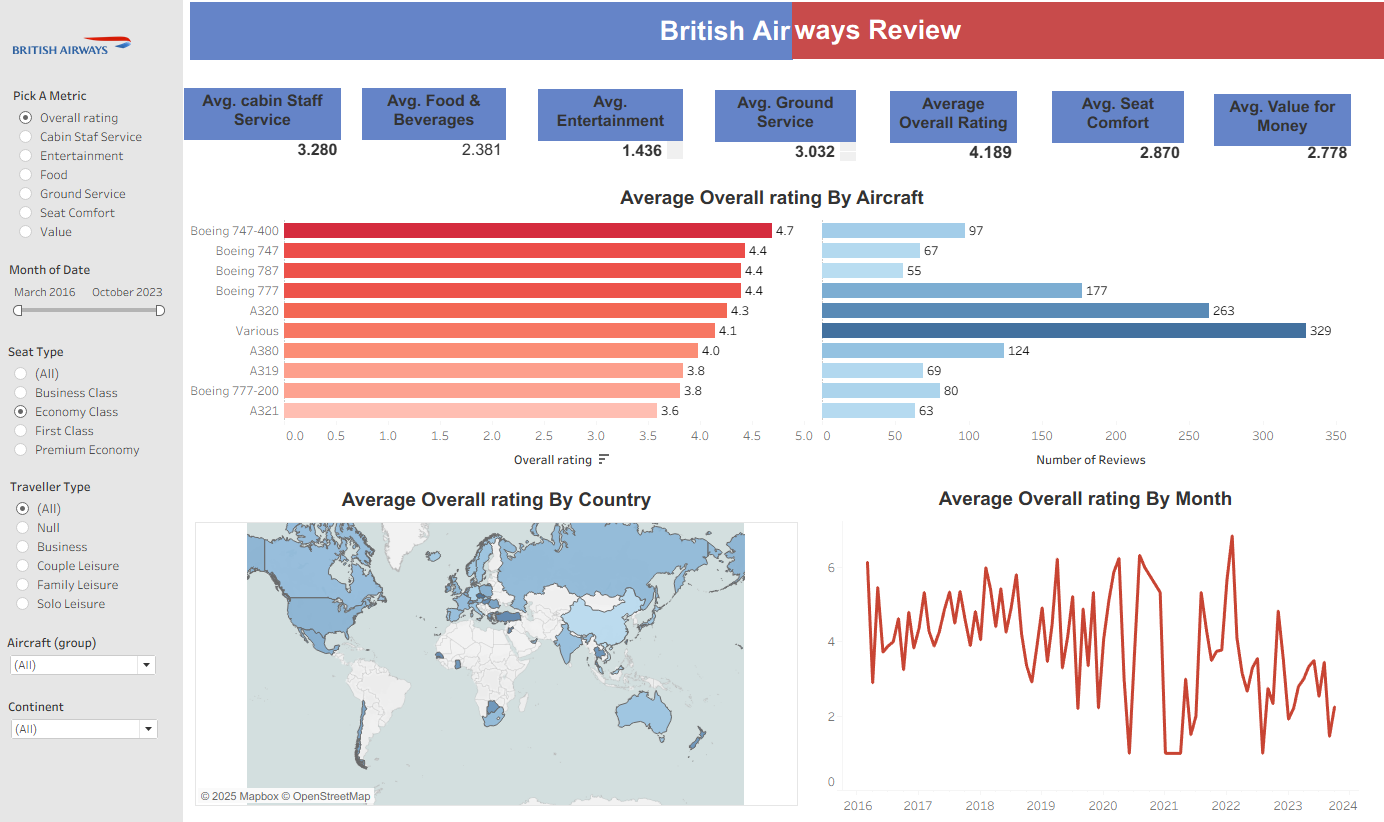

Layout of this report page (visuals, bound fields, positions):
{"tool":"tableau","page":{"name":"Dashboard 1","canvas":[1400,850],"ordinal":0},"visuals":[{"type":"image","param":"D:/BA Dashboard/British_Airways_Logo.svg.png","box":[20,7,119,93]},{"type":"text","box":[198,10,603,58]},{"type":"text","box":[800,10,594,57]},{"type":"worksheet","title":"Average Cabin Staff Service","mark":"Automatic","box":[188,92,165,80]},{"type":"worksheet","title":"Average Food Beverages","mark":"Automatic","box":[366,92,152,80]},{"type":"worksheet","title":"Average Entertainment","mark":"Automatic","box":[542,93,153,78]},{"type":"worksheet","title":"Average Ground Service","mark":"Automatic","box":[719,94,149,79]},{"type":"parameter","param":"[Parameters].[Parameter 1]","box":[21,95,160,157]},{"type":"worksheet","title":"Average Rating","mark":"Automatic","box":[894,95,135,80]},{"type":"worksheet","title":"Average Seat Comfort","mark":"Automatic","box":[1056,95,140,80]},{"type":"worksheet","title":"Average Value for Money","mark":"Automatic","box":[1218,98,145,73]},{"type":"worksheet","title":"Sheet 10","mark":"Automatic","cols":["Calculation_416020043844018176","ba_reviews.csv_B555438722114192BC0E952CD56F72A5"],"box":[192,191,1177,304]},{"type":"filter","title":"Map","param":"[federated.156k0pq0wkv63410bcs1x1w0vv4y].[tmn:date:qk]","box":[17,269,160,61]},{"type":"filter","title":"Map","param":"[federated.156k0pq0wkv63410bcs1x1w0vv4y].[none:seat_type:nk]","box":[16,351,160,121]},{"type":"filter","title":"Map","param":"[federated.156k0pq0wkv63410bcs1x1w0vv4y].[none:traveller_type:nk]","box":[18,486,160,151]},{"type":"worksheet","title":"Sheet 9","mark":"Automatic","rows":["Calculation_416020043844018176"],"cols":["date"],"box":[820,492,547,336]},{"type":"worksheet","title":"Map","mark":"Automatic","box":[203,493,603,321]},{"type":"filter","title":"Map","param":"[federated.156k0pq0wkv63410bcs1x1w0vv4y].[Aircraft (group)]","box":[15,642,152,67]},{"type":"filter","title":"Map","param":"[federated.156k0pq0wkv63410bcs1x1w0vv4y].[none:Continent:nk]","box":[16,706,153,66]}]}

Visuals, with their boxes in screenshot pixels (x1, y1, x2, y2), scaled from the page's 1400x850 canvas onto the 1384x822 screenshot:
image: 20, 7, 137, 97
text: 196, 10, 792, 66
text: 791, 10, 1378, 65
"Average Cabin Staff Service" worksheet: 186, 89, 349, 166
"Average Food Beverages" worksheet: 362, 89, 512, 166
"Average Entertainment" worksheet: 536, 90, 687, 165
"Average Ground Service" worksheet: 711, 91, 858, 167
parameter: 21, 92, 179, 244
"Average Rating" worksheet: 884, 92, 1017, 169
"Average Seat Comfort" worksheet: 1044, 92, 1182, 169
"Average Value for Money" worksheet: 1204, 95, 1347, 165
"Sheet 10" worksheet: 190, 185, 1353, 479
"Map" filter: 17, 260, 175, 319
"Map" filter: 16, 339, 174, 456
"Map" filter: 18, 470, 176, 616
"Sheet 9" worksheet: 811, 476, 1351, 801
"Map" worksheet: 201, 477, 797, 787
"Map" filter: 15, 621, 165, 686
"Map" filter: 16, 683, 167, 747
